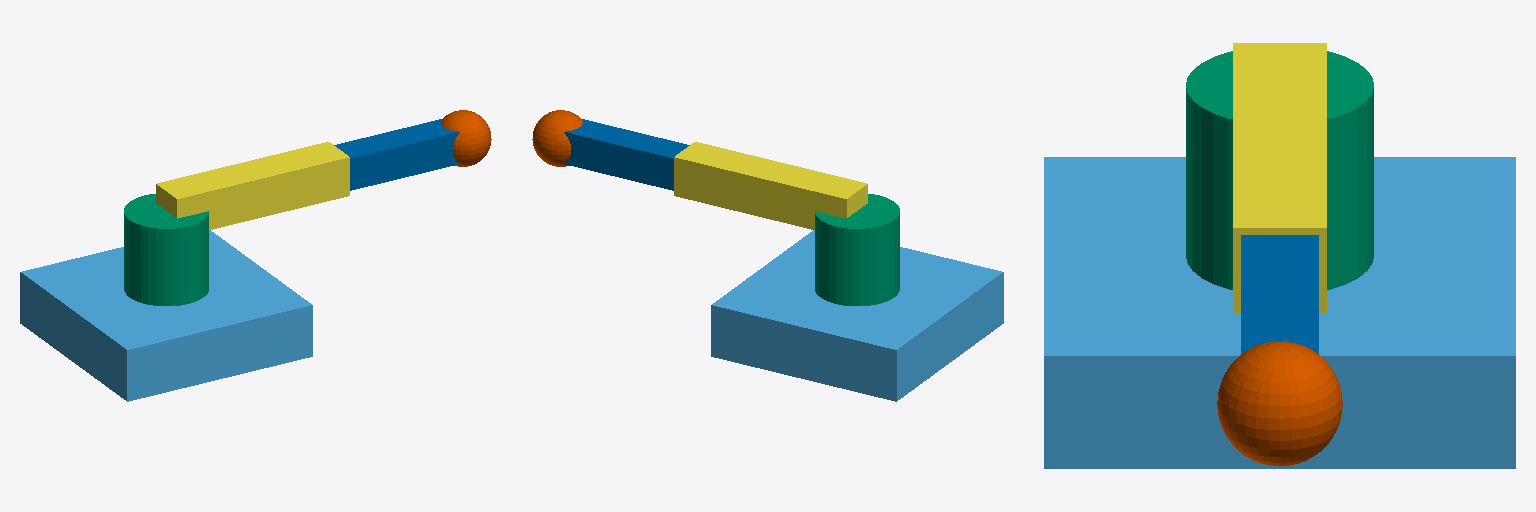
URDF robot description (urdf_arm_demo):
<?xml version="1.0"?>
<!-- cadpy:sourcePath=urdf_arm_demo.py -->
<!-- cadpy:sourceHash=b62e8bd8d34cc7c13619a3853e2ef6c2df1deece014a2848a9c7aba8f814ccc6 -->
<robot name="urdf_arm_demo">
  <link name="base_footprint" />
  <link name="base_link">
    <visual>
      <origin xyz="0 0 0" rpy="0 0 0" />
      <geometry>
        <box size="0.3 0.3 0.08" />
      </geometry>
    </visual>
    <collision>
      <origin xyz="0 0 0" rpy="0 0 0" />
      <geometry>
        <box size="0.3 0.3 0.08" />
      </geometry>
    </collision>
    <inertial>
      <origin xyz="0 0 0" rpy="0 0 0" />
      <mass value="4" />
      <inertia ixx="0.0321333" ixy="0" ixz="0" iyy="0.0321333" iyz="0" izz="0.06" />
    </inertial>
  </link>
  <joint name="base_footprint_to_base" type="fixed">
    <parent link="base_footprint" />
    <child link="base_link" />
    <origin xyz="0 0 0.04" rpy="0 0 0" />
  </joint>
  <link name="shoulder_link">
    <visual>
      <origin xyz="0 0 0" rpy="0 0 0" />
      <geometry>
        <cylinder radius="0.06" length="0.12" />
      </geometry>
    </visual>
    <collision>
      <origin xyz="0 0 0" rpy="0 0 0" />
      <geometry>
        <cylinder radius="0.06" length="0.12" />
      </geometry>
    </collision>
    <inertial>
      <origin xyz="0 0 0" rpy="0 0 0" />
      <mass value="1.5" />
      <inertia ixx="0.00315" ixy="0" ixz="0" iyy="0.00315" iyz="0" izz="0.0027" />
    </inertial>
  </link>
  <joint name="shoulder_pan_joint" type="revolute">
    <parent link="base_link" />
    <child link="shoulder_link" />
    <origin xyz="0 0 0.1" rpy="0 0 0" />
    <axis xyz="0 0 1" />
    <limit lower="-2.96706" upper="2.96706" effort="40" velocity="2" />
  </joint>
  <link name="upper_arm_link">
    <visual>
      <origin xyz="0.14 0 0" rpy="0 0 0" />
      <geometry>
        <box size="0.28 0.06 0.06" />
      </geometry>
    </visual>
    <collision>
      <origin xyz="0.14 0 0" rpy="0 1.5708 0" />
      <geometry>
        <cylinder radius="0.025" length="0.28" />
      </geometry>
    </collision>
    <inertial>
      <origin xyz="0.14 0 0" rpy="0 0 0" />
      <mass value="1.2" />
      <inertia ixx="0.00072" ixy="0" ixz="0" iyy="0.0082" iyz="0" izz="0.0082" />
    </inertial>
  </link>
  <joint name="shoulder_lift_joint" type="revolute">
    <parent link="shoulder_link" />
    <child link="upper_arm_link" />
    <origin xyz="0 0 0.06" rpy="0 0 0" />
    <axis xyz="0 1 0" />
    <limit lower="-0.785398" upper="1.5708" effort="40" velocity="2" />
  </joint>
  <link name="forearm_link">
    <visual>
      <origin xyz="0.1 0 0" rpy="0 0 0" />
      <geometry>
        <box size="0.2 0.05 0.05" />
      </geometry>
    </visual>
    <collision>
      <origin xyz="0.1 0 0" rpy="0 0 0" />
      <geometry>
        <box size="0.2 0.05 0.05" />
      </geometry>
    </collision>
    <inertial>
      <origin xyz="0.1 0 0" rpy="0 0 0" />
      <mass value="0.8" />
      <inertia ixx="0.000333333" ixy="0" ixz="0" iyy="0.00283333" iyz="0" izz="0.00283333" />
    </inertial>
  </link>
  <joint name="forearm_extend_joint" type="prismatic">
    <parent link="upper_arm_link" />
    <child link="forearm_link" />
    <origin xyz="0.28 0 0" rpy="0 0 0" />
    <axis xyz="1 0 0" />
    <limit lower="0" upper="0.15" effort="100" velocity="0.1" />
  </joint>
  <link name="wrist_link">
    <visual>
      <origin xyz="0 0 0" rpy="0 0 0" />
      <geometry>
        <sphere radius="0.04" />
      </geometry>
    </visual>
    <collision>
      <origin xyz="0 0 0" rpy="0 0 0" />
      <geometry>
        <sphere radius="0.04" />
      </geometry>
    </collision>
    <inertial>
      <origin xyz="0 0 0" rpy="0 0 0" />
      <mass value="0.3" />
      <inertia ixx="0.000192" ixy="0" ixz="0" iyy="0.000192" iyz="0" izz="0.000192" />
    </inertial>
  </link>
  <joint name="wrist_roll_joint" type="continuous">
    <parent link="forearm_link" />
    <child link="wrist_link" />
    <origin xyz="0.2 0 0" rpy="0 0 0" />
    <axis xyz="1 0 0" />
    <limit effort="10" velocity="3" />
  </joint>
  <link name="tool0" />
  <joint name="wrist_to_tool0" type="fixed">
    <parent link="wrist_link" />
    <child link="tool0" />
    <origin xyz="0.04 0 0" rpy="0 0 0" />
  </joint>
</robot>

--- Render facts (derived) ---
Views: 3 orthographic renders of the robot side by side, from view 1: azimuth 30°, elevation 25°; view 2: azimuth 150°, elevation 25°; view 3: azimuth 270°, elevation 25°.
Model urdf_arm_demo with 7 links and 6 joints (2 revolute, 1 continuous, 1 prismatic, 2 fixed), rooted at base_footprint, posed every joint at zero.
Links seen in each view (by area): view 1: base_link, upper_arm_link, shoulder_link, forearm_link, wrist_link; view 2: base_link, upper_arm_link, shoulder_link, forearm_link, wrist_link; view 3: base_link, shoulder_link, upper_arm_link, wrist_link, forearm_link.
Link boxes in pixels (box(x1,y1,x2,y2)): base_link: box(20, 230, 312, 401); upper_arm_link: box(156, 142, 349, 229); shoulder_link: box(124, 194, 208, 305); forearm_link: box(334, 119, 459, 190); wrist_link: box(441, 110, 491, 166); base_link: box(711, 230, 1003, 401); upper_arm_link: box(674, 142, 867, 229); shoulder_link: box(815, 194, 899, 305); forearm_link: box(564, 119, 689, 190); wrist_link: box(532, 110, 582, 166); base_link: box(1044, 157, 1515, 468); shoulder_link: box(1186, 51, 1373, 289); upper_arm_link: box(1233, 43, 1326, 313); wrist_link: box(1217, 341, 1342, 466); forearm_link: box(1241, 235, 1318, 353).
Size in the robot's own frame: 0.67 by 0.3 by 0.24 metres.
Geometry: primitives only (box / cylinder / sphere), no mesh files.
